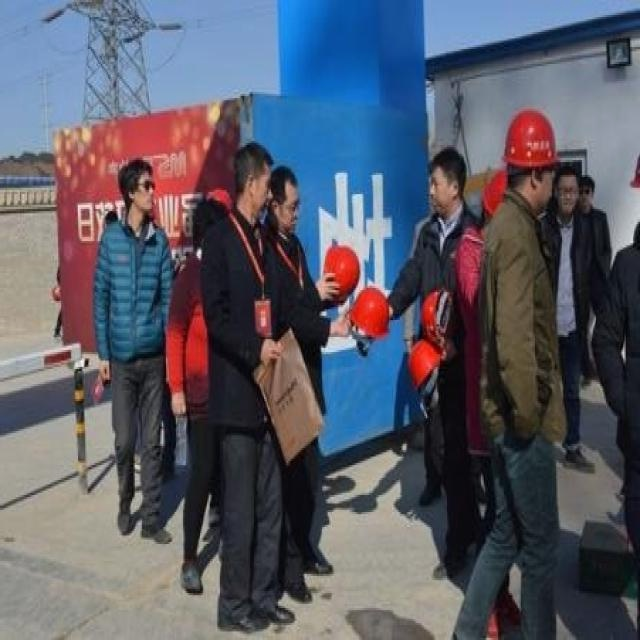Con_Casco: (505, 111, 556, 209)
Sin_Casco_Mascarrilla: (118, 161, 156, 215)
Sin_Chaleco: (100, 218, 167, 358)
